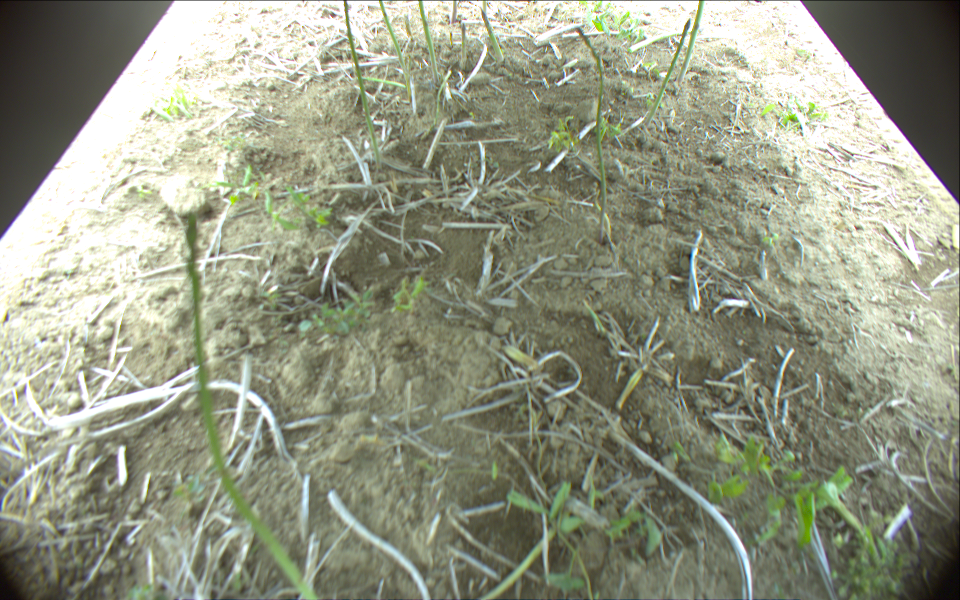aspa: (184, 212, 323, 600), (342, 1, 382, 169), (644, 19, 691, 126), (380, 1, 414, 100), (596, 51, 610, 247), (411, 1, 441, 86), (679, 1, 704, 84), (481, 8, 507, 61), (359, 74, 407, 90), (460, 24, 468, 64), (405, 14, 413, 40), (449, 1, 457, 24)
